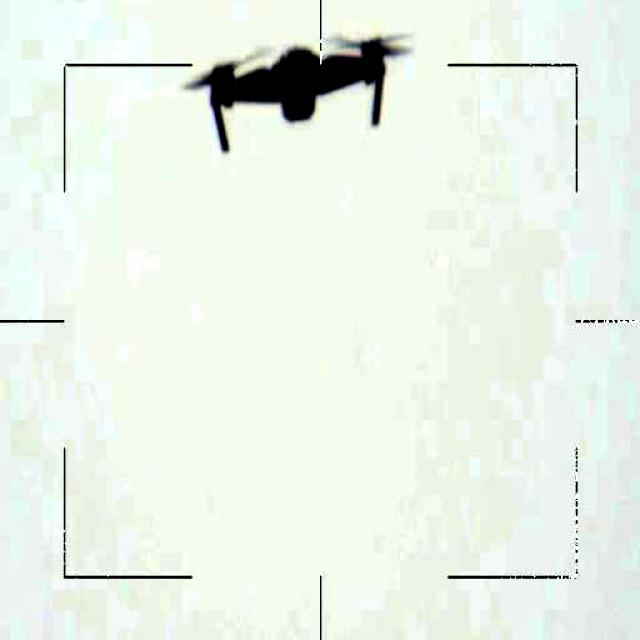bird: (164, 21, 414, 160)
